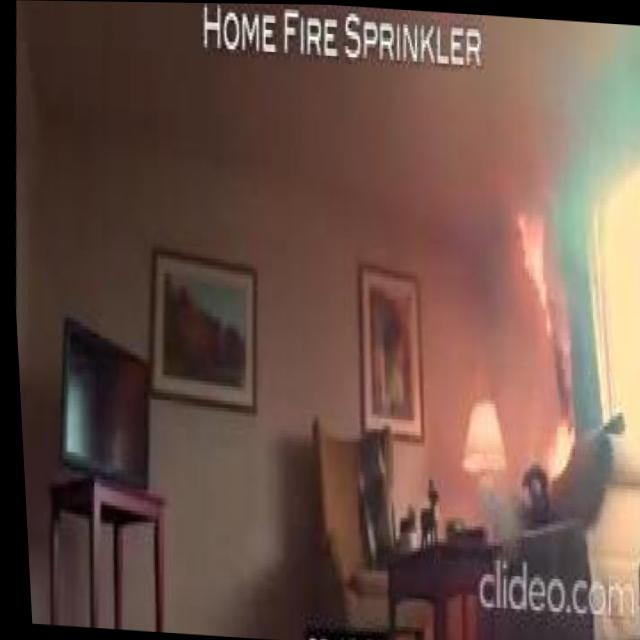fire: (504, 201, 555, 330), (544, 283, 575, 405), (541, 399, 576, 484)
